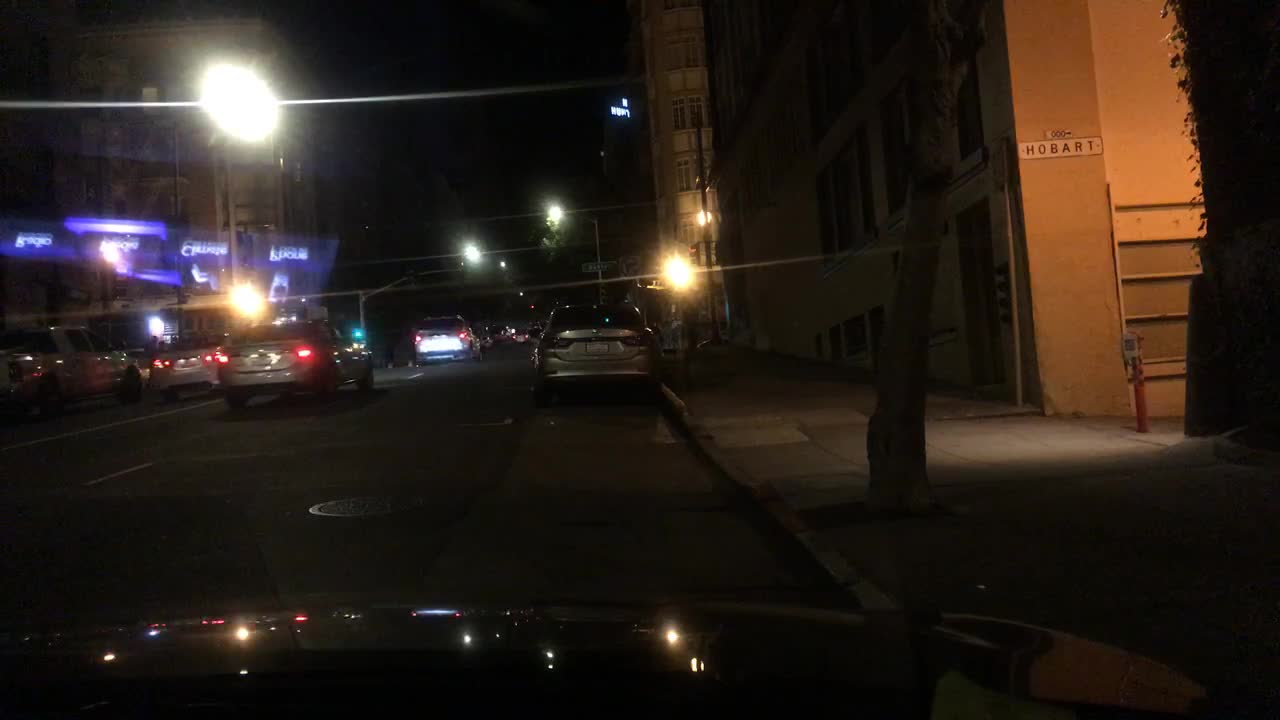car: (217, 319, 375, 406), (0, 325, 147, 411), (534, 305, 662, 387), (150, 331, 233, 401), (408, 316, 484, 362), (121, 345, 152, 363), (490, 324, 517, 342), (472, 327, 496, 347), (531, 317, 547, 341), (511, 329, 528, 347)
person: (147, 333, 157, 351), (157, 339, 168, 349)
traffic light: (685, 241, 700, 263), (351, 326, 363, 341)
traffic sign: (580, 260, 619, 274), (301, 301, 329, 320)
